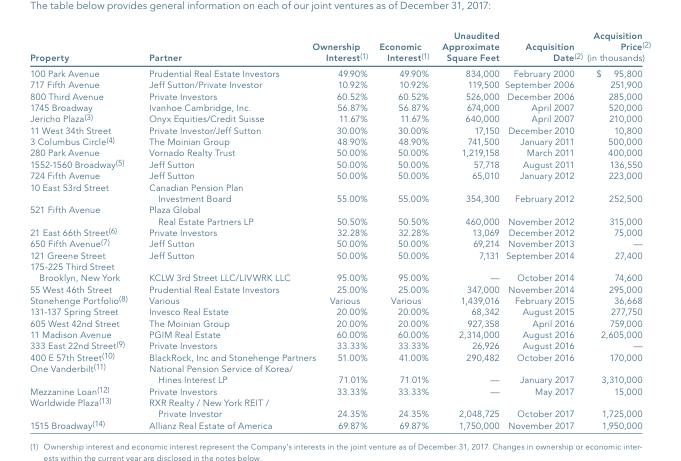table: (29, 29, 650, 430)
table column: (137, 29, 313, 430), (29, 29, 137, 430), (501, 29, 584, 430), (434, 29, 501, 430), (584, 29, 650, 430), (372, 29, 434, 430), (313, 29, 372, 430)
table column header: (29, 29, 650, 65)
table row: (29, 29, 650, 65), (29, 180, 650, 203), (29, 260, 650, 283), (29, 361, 650, 384), (29, 395, 650, 418), (29, 203, 650, 225), (29, 65, 650, 78), (29, 78, 650, 90), (29, 112, 650, 124), (29, 157, 650, 169), (29, 225, 650, 237), (29, 237, 650, 249), (29, 293, 650, 305), (29, 305, 650, 317), (29, 418, 650, 430), (29, 90, 650, 101), (29, 101, 650, 112), (29, 124, 650, 135), (29, 135, 650, 146), (29, 146, 650, 157), (29, 169, 650, 180), (29, 249, 650, 260), (29, 317, 650, 328), (29, 328, 650, 339), (29, 339, 650, 350), (29, 350, 650, 361), (29, 384, 650, 395), (29, 283, 650, 293)
